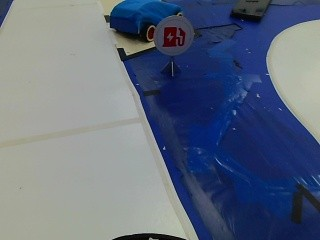battery: (155, 21, 192, 53)
